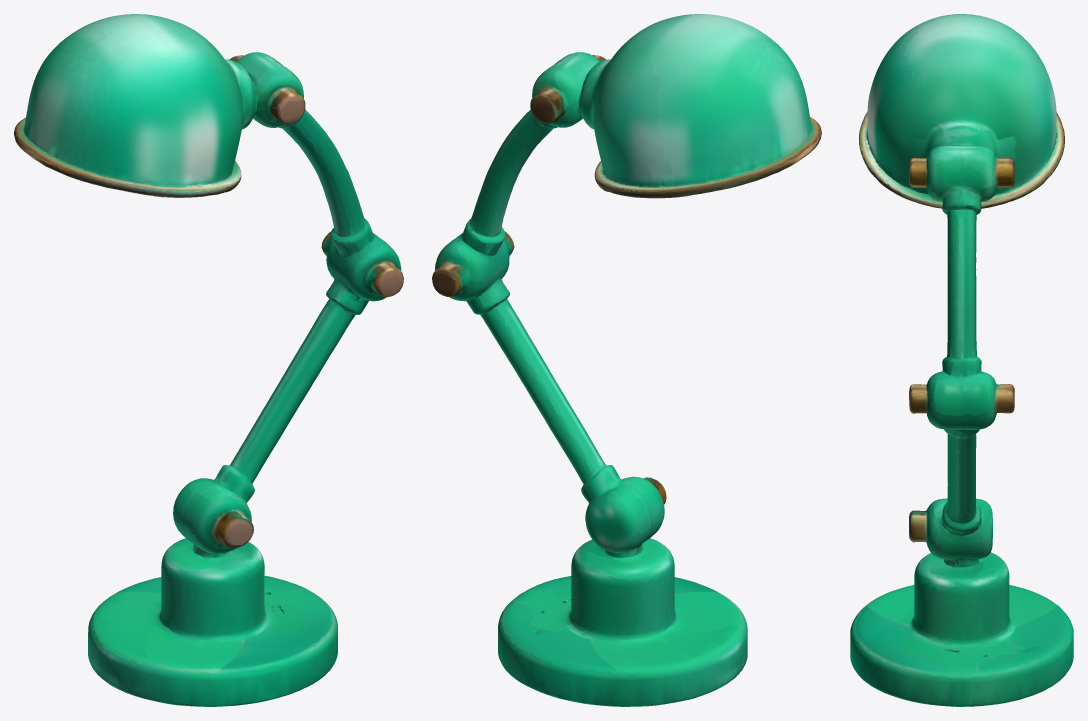
Rendered from lamp.o1.glb.
3 views of the same model, side by side, from view 1: azimuth 30°, elevation 25°; view 2: azimuth 150°, elevation 25°; view 3: azimuth 270°, elevation 25° (orthographic). The views are drawn at different scales.
Visible parts, largest first — view 1: geometry_0; view 2: geometry_0; view 3: geometry_0.
Part boxes in pixels (<box>): geometry_0: <box>14,14,403,706</box>; geometry_0: <box>432,14,821,706</box>; geometry_0: <box>850,14,1073,706</box>.
Size of the model in its own units: 0.2573 by 0.45 by 0.1507.
1 material, 1 textured.
